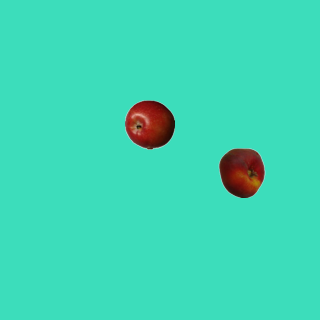Apple Braeburn: (124, 99, 174, 149)
Nectarine Flat: (216, 147, 266, 197)
